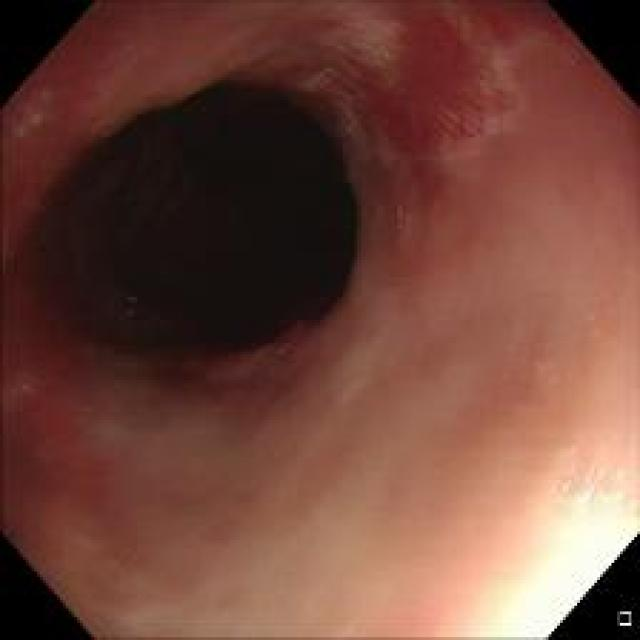blur: (244, 10, 525, 192)
contrast: (25, 72, 374, 374)
saturation: (466, 494, 626, 636)
